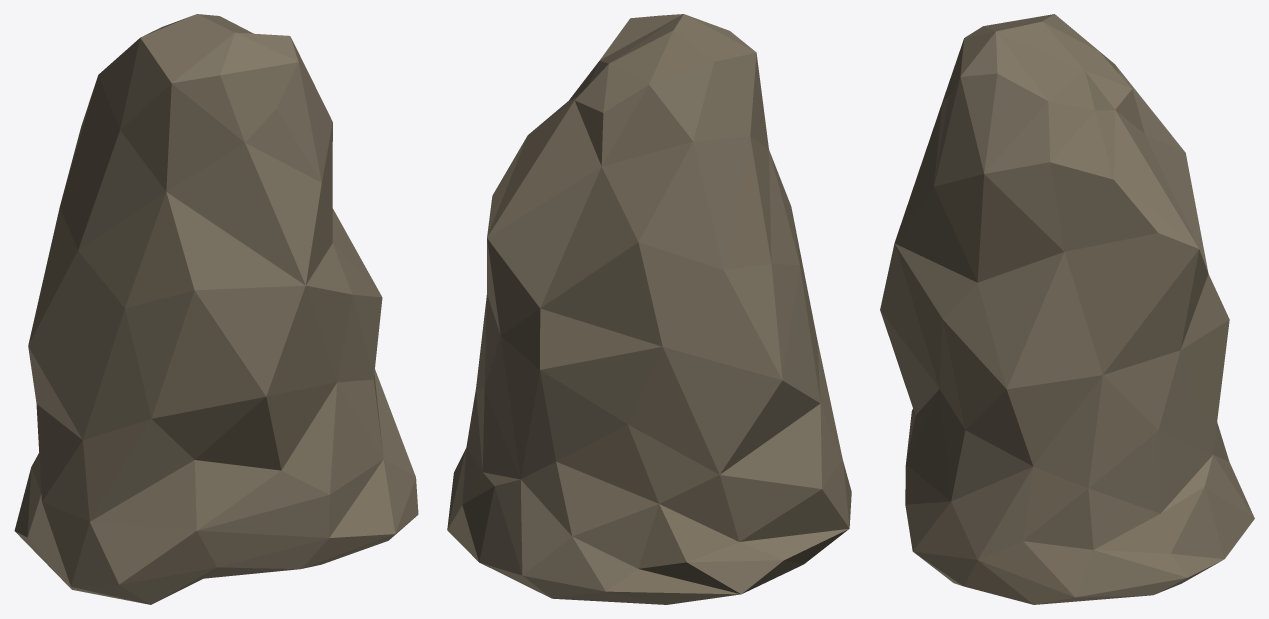
The model's file is LargeRock_5.fbx.
The picture shows the model from 3 angles, left to right: view 1: azimuth 30°, elevation 25°; view 2: azimuth 150°, elevation 25°; view 3: azimuth 270°, elevation 25°; orthographic projection. The views are drawn at different scales.
Parts seen in each view (by area): view 1: LargeRock_5; view 2: LargeRock_5; view 3: LargeRock_5.
Boxes of the visible parts, x1=… form: LargeRock_5: x1=14, y1=14, x2=418, y2=604; LargeRock_5: x1=447, y1=14, x2=851, y2=604; LargeRock_5: x1=880, y1=14, x2=1254, y2=604.
Size of the model in its own units: 126 by 177 by 117.
